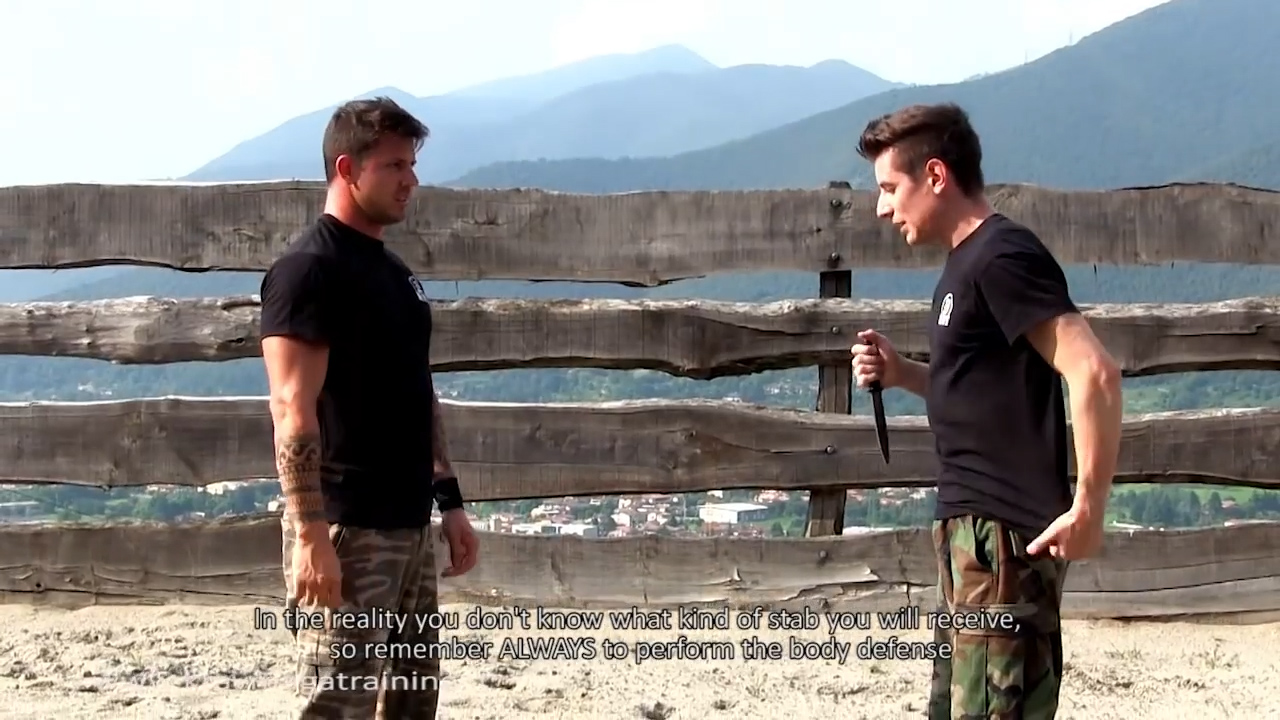knife: (846, 327, 898, 471)
